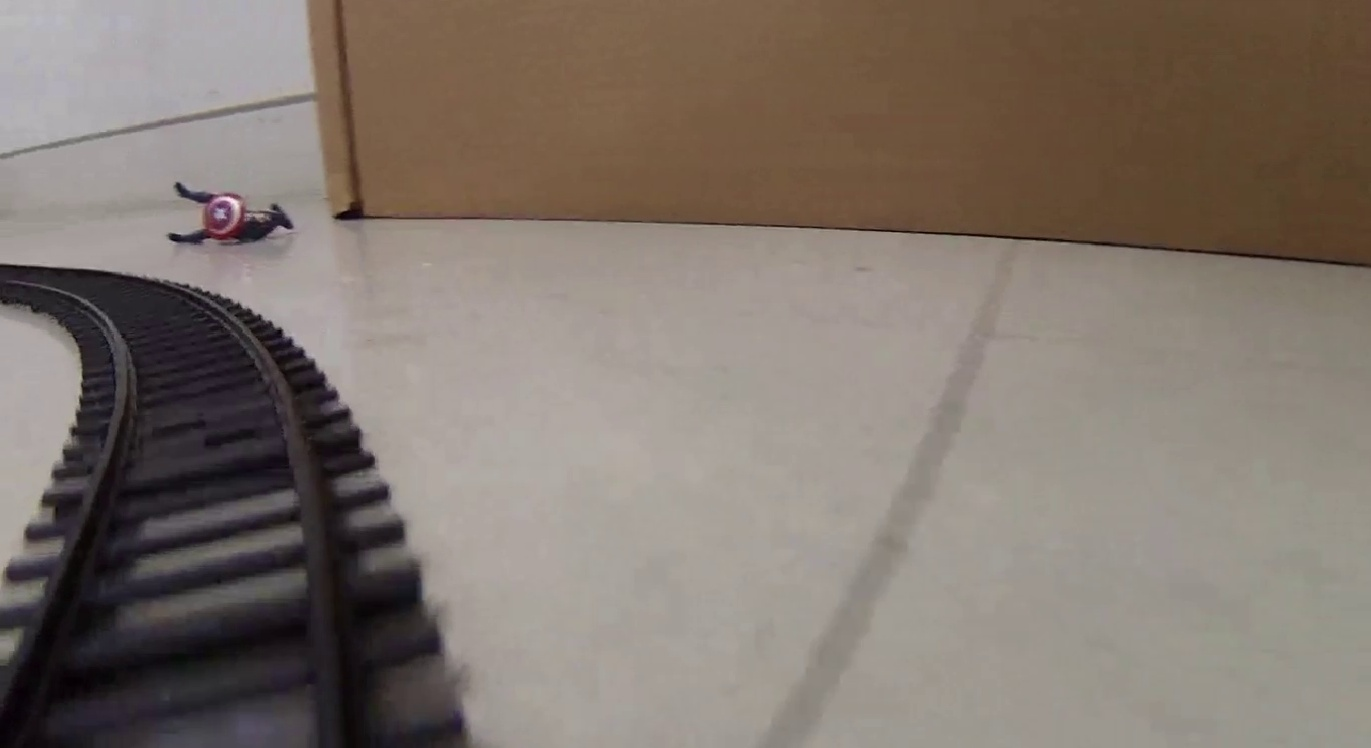people: (168, 180, 295, 244)
